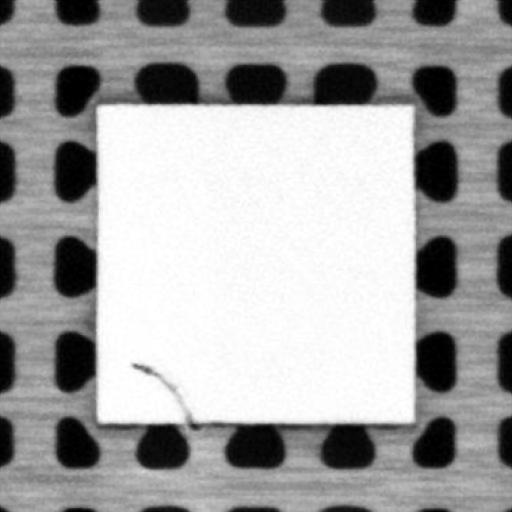DIE_INK: (130, 361, 192, 423)
